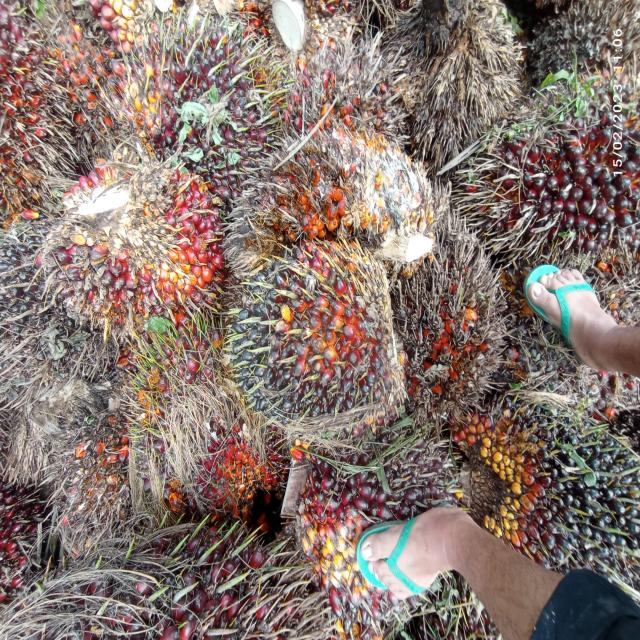fraksi 00: (283, 385, 466, 638), (464, 380, 640, 616)
fraksi 1: (214, 233, 417, 442), (483, 50, 640, 312), (104, 15, 284, 197)
fraksi 3: (41, 128, 227, 350), (167, 386, 296, 515)
fraksi 4: (236, 108, 448, 268), (391, 212, 506, 434)
